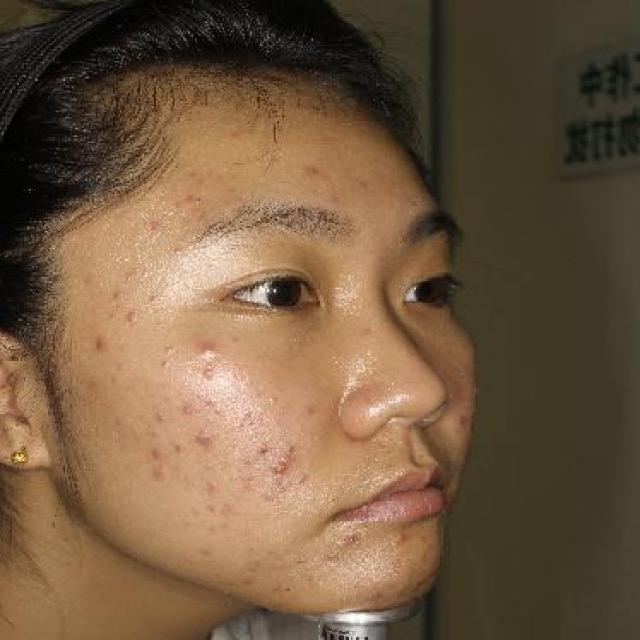Acne: (84, 323, 116, 362), (293, 161, 330, 190), (190, 342, 228, 364), (188, 425, 219, 449), (265, 458, 296, 482), (121, 306, 152, 328), (195, 365, 222, 384), (260, 391, 288, 409), (391, 529, 419, 546)
Whiteheads: (164, 240, 190, 262), (157, 335, 184, 356), (152, 356, 179, 372)
